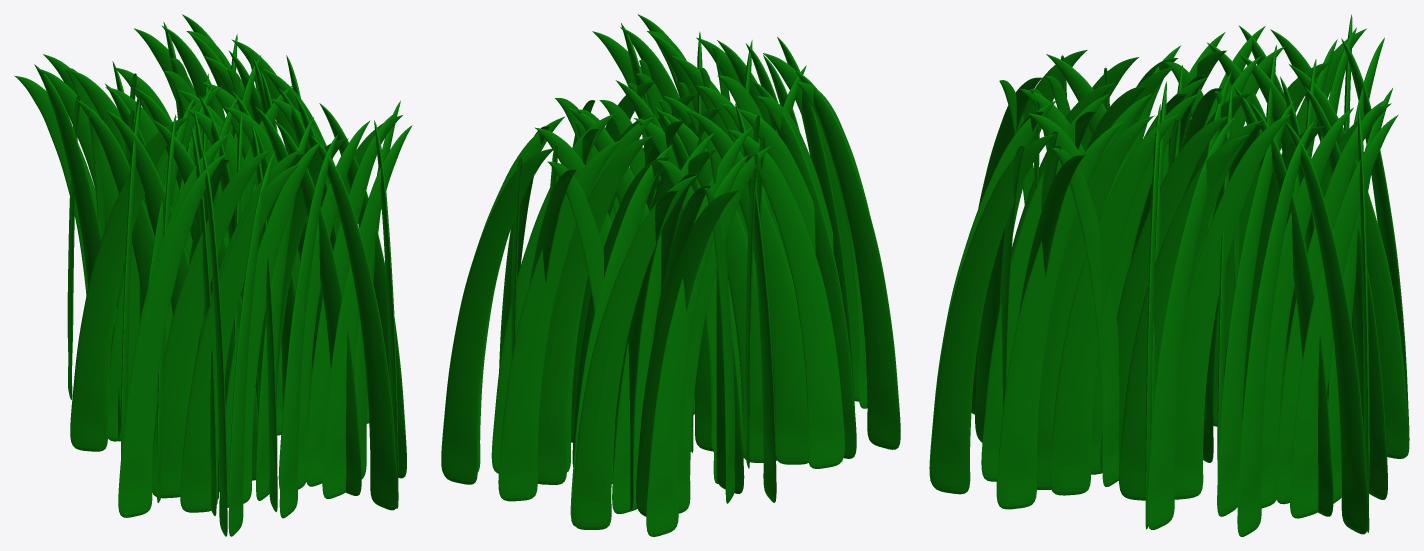
File: HighPolyGrass.obj
3 renders of one model, left to right at view 1: azimuth 30°, elevation 25°; view 2: azimuth 150°, elevation 25°; view 3: azimuth 270°, elevation 25°, orthographic. The views are drawn at different scales.
Parts seen in each view (by area): view 1: Plane; view 2: Plane; view 3: Plane.
Boxes of the visible parts, bbox=[...] form: Plane: bbox=[14, 14, 412, 536]; Plane: bbox=[441, 14, 900, 536]; Plane: bbox=[929, 14, 1409, 536].
Size of the model in its own units: 1.75 by 1.83 by 2.13.
